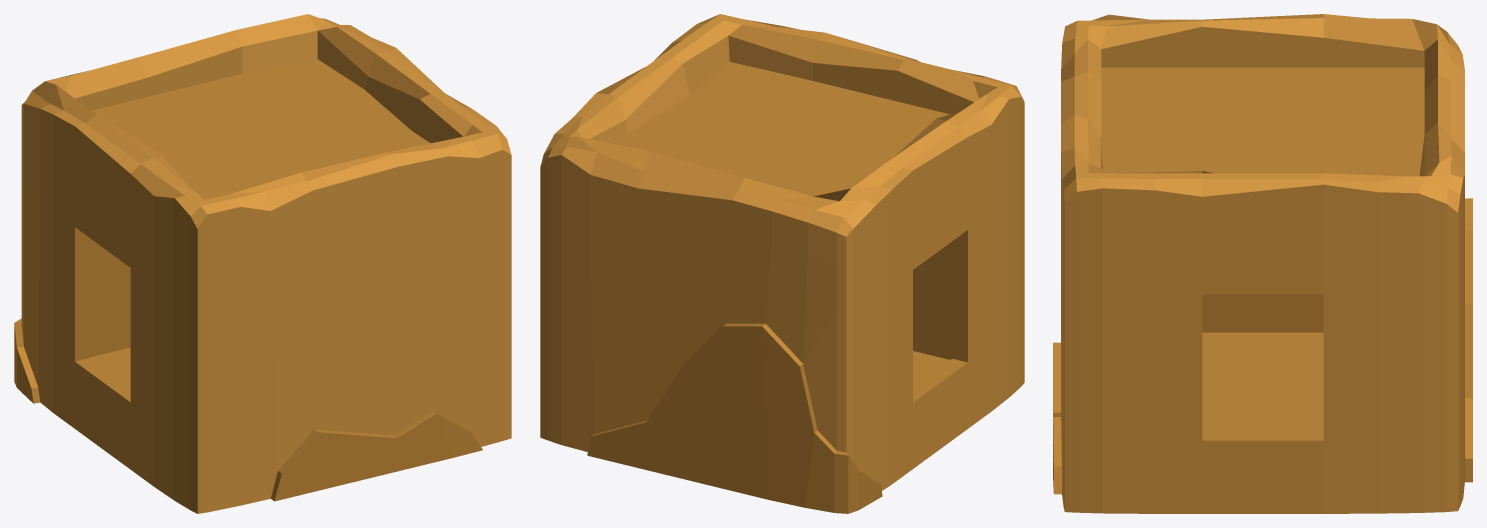
File: Building_S3.fbx
3 views of the same model, side by side, from view 1: azimuth 30°, elevation 25°; view 2: azimuth 150°, elevation 25°; view 3: azimuth 270°, elevation 25° (orthographic). The views are drawn at different scales.
Visible parts, largest first — view 1: Plane.008; view 2: Plane.008; view 3: Plane.008.
Boxes of the visible parts, x1,y1,x2,y2 form: Plane.008: (14,14,511,513); Plane.008: (540,14,1024,513); Plane.008: (1053,14,1472,513).
Size of the model in its own units: 102 by 92.02 by 104.
